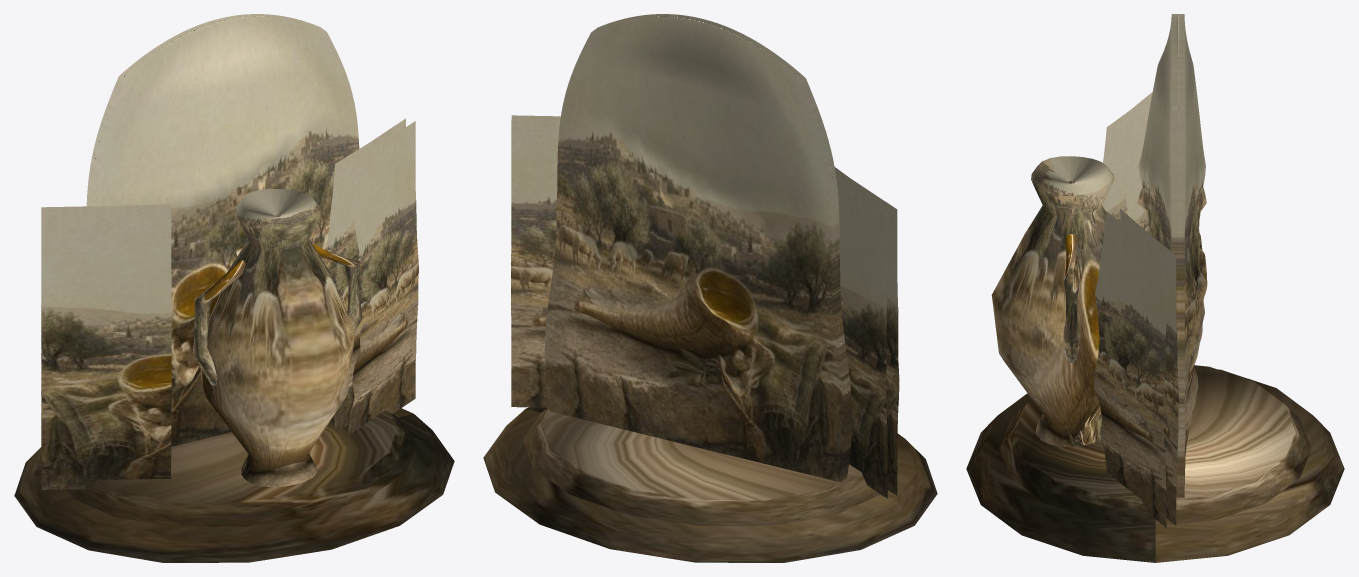
Rendered from samuel-anointing-horn.glb.
The picture shows the model from 3 angles, left to right: view 1: azimuth 30°, elevation 25°; view 2: azimuth 150°, elevation 25°; view 3: azimuth 270°, elevation 25°; orthographic projection. The views are drawn at different scales.
Visible parts, largest first — view 1: PaintingSculptureMonument; view 2: PaintingSculptureMonument; view 3: PaintingSculptureMonument.
Boxes of the visible parts, x1,y1,x2,y2 form: PaintingSculptureMonument: (14,14,454,562); PaintingSculptureMonument: (483,14,937,562); PaintingSculptureMonument: (966,14,1344,562).
Bounding box in the file's own units: 2.76 × 2.99 × 2.35.
Materials: 1 (1 with a texture image).
